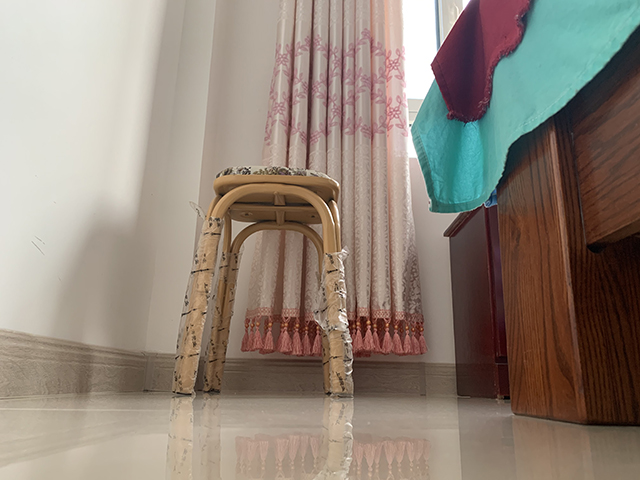bed: (409, 1, 640, 427)
curtain: (238, 1, 427, 360)
stool: (170, 165, 357, 400)
